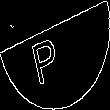P_N: (38, 25, 72, 85)
